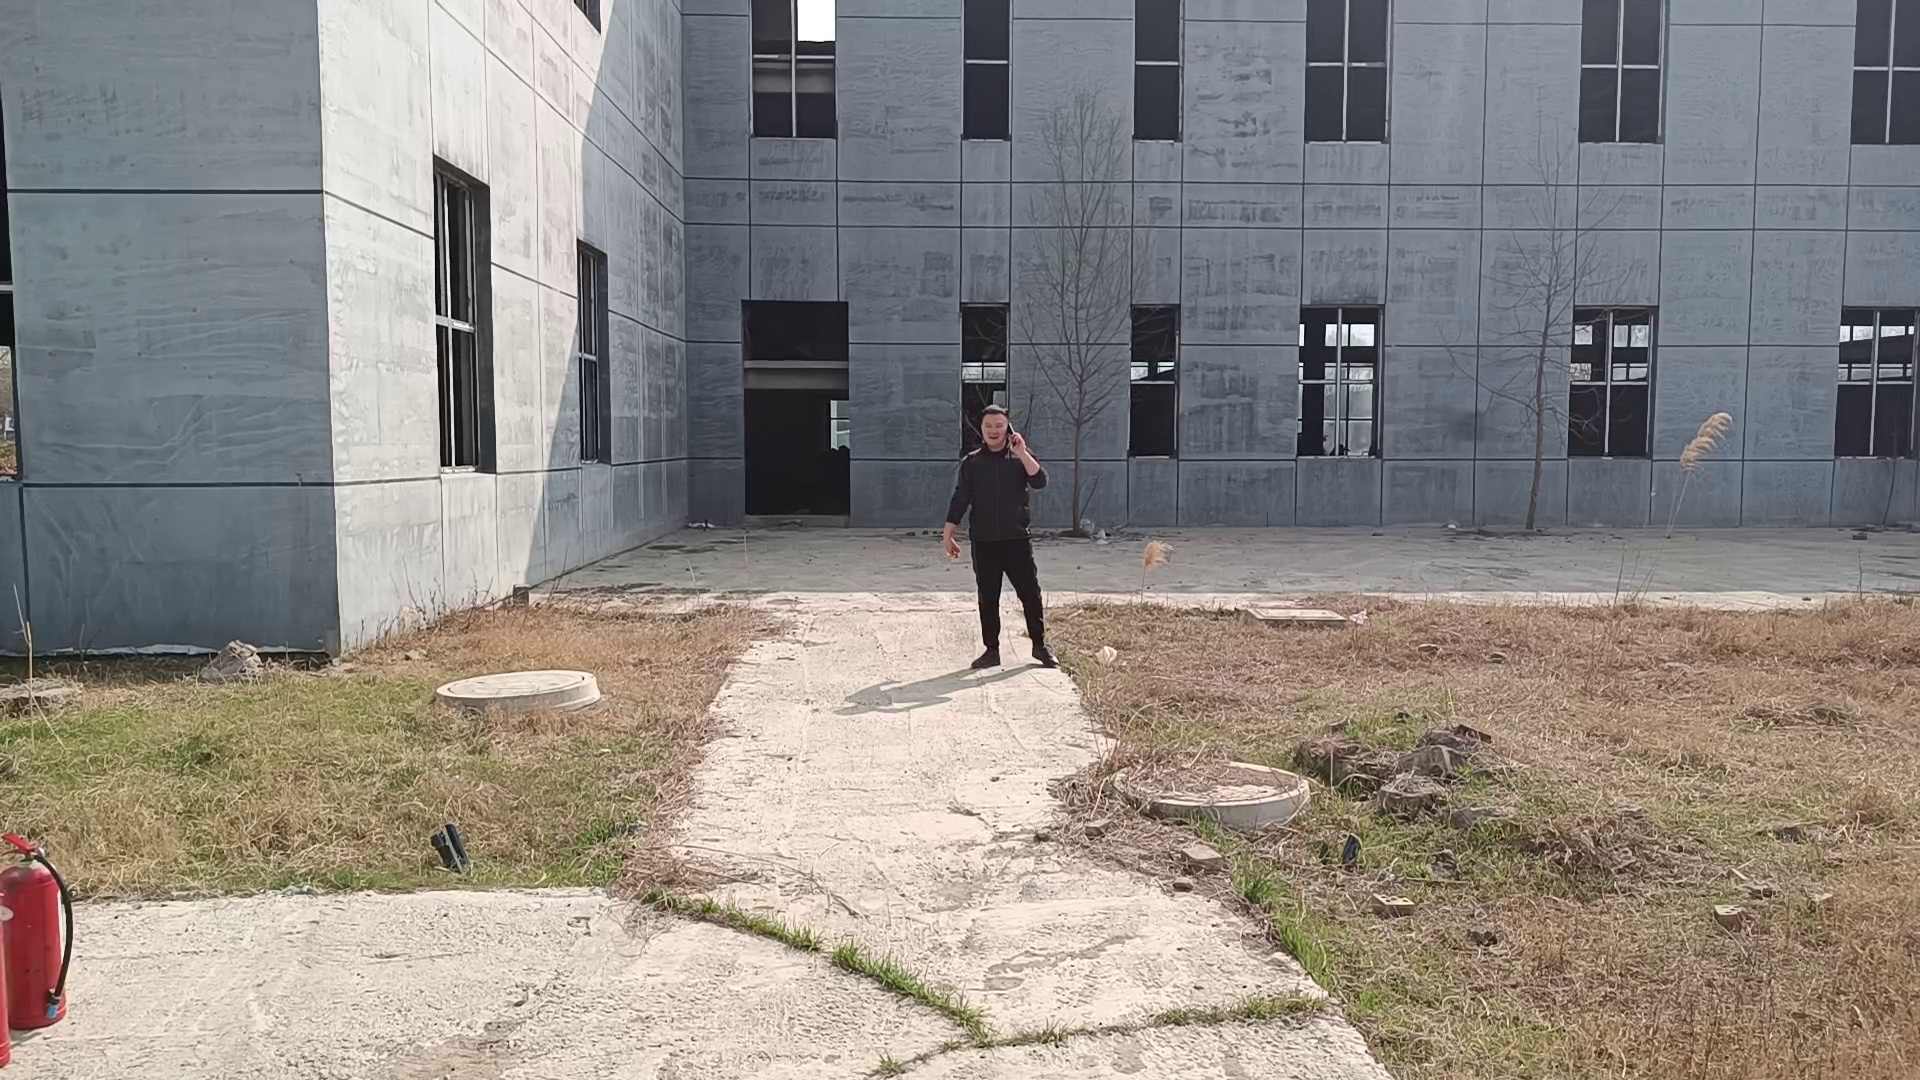phone: (980, 401, 1021, 462)
